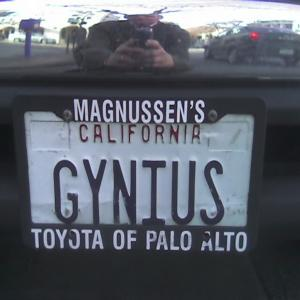Vehicle-registration-plate: (12, 93, 268, 257)
